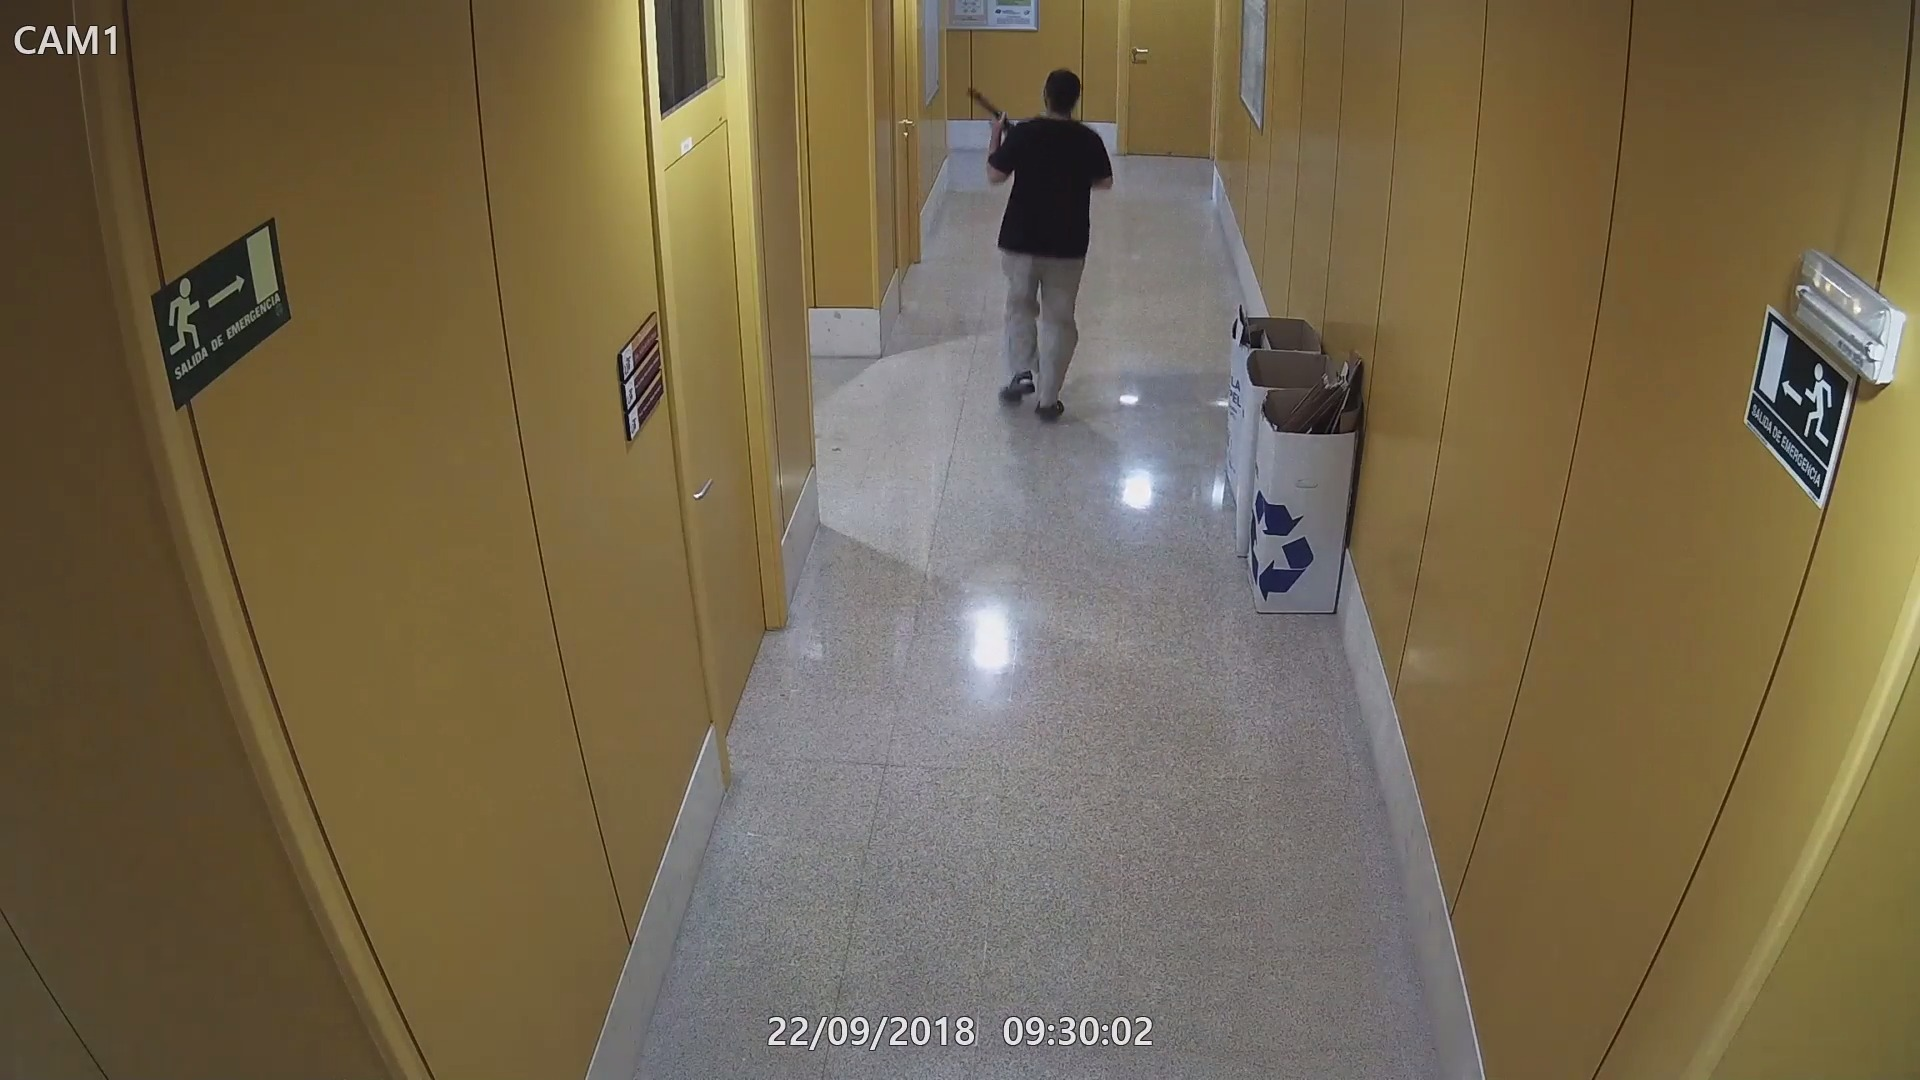Short_rifle: (967, 88, 1025, 138)
